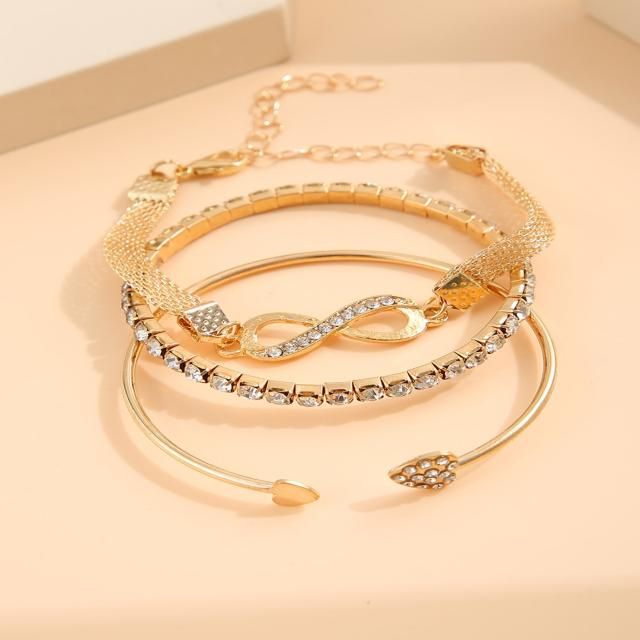bracelet: (56, 43, 596, 531)
